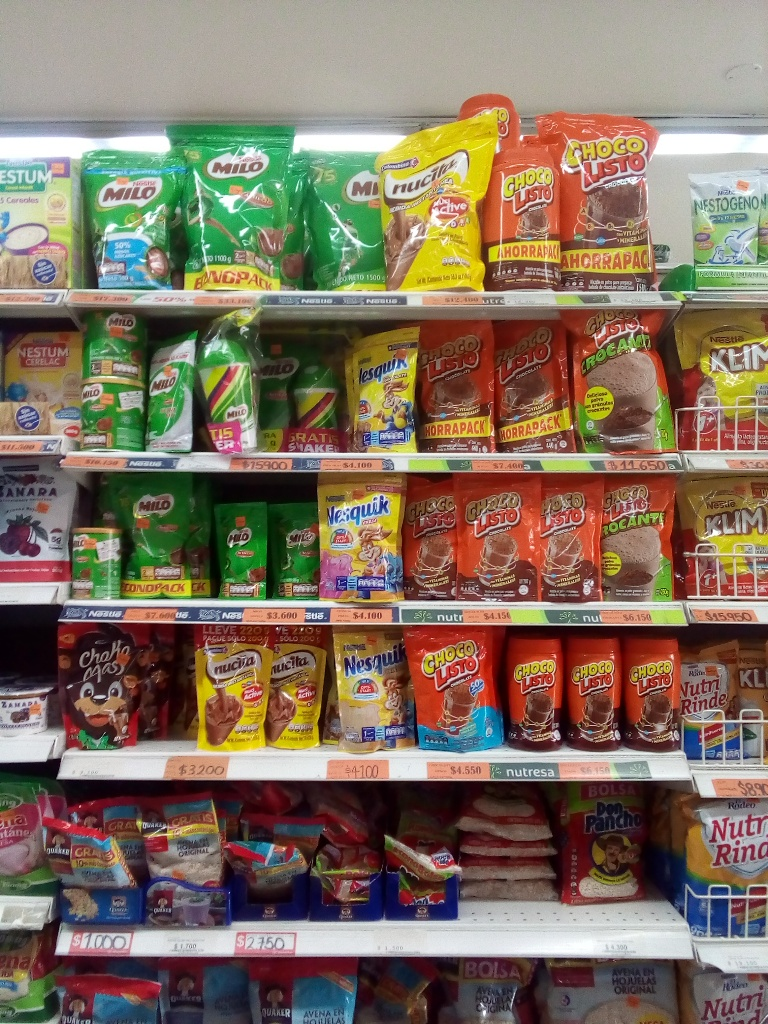COL0170102DYP25000: (597, 468, 676, 603)
COL0170102DYP50000: (556, 307, 685, 455)
COL0170103DYP1,500: (533, 108, 664, 297)
COL0170103DYP20000: (394, 468, 460, 605)
COL0170103DYP44000: (411, 318, 502, 453)
COL0170103TRR00100: (477, 146, 567, 293)
COL0170103TRR30000: (504, 628, 565, 750)
COL0170104DYP20000: (403, 620, 504, 750)
COL0170203DYP10000: (211, 500, 272, 599)
COL0170203DYP25000: (113, 472, 214, 603)
COL0170203LAT40000: (66, 525, 124, 600)
COL0170205DYP20000: (149, 329, 195, 456)
COL0170205DYP50000: (75, 144, 190, 292)
COL0170303DYP20000: (338, 323, 422, 453)
COL0170305DYP20000: (315, 469, 408, 602)
COL0170306DYP20000: (328, 623, 417, 751)
